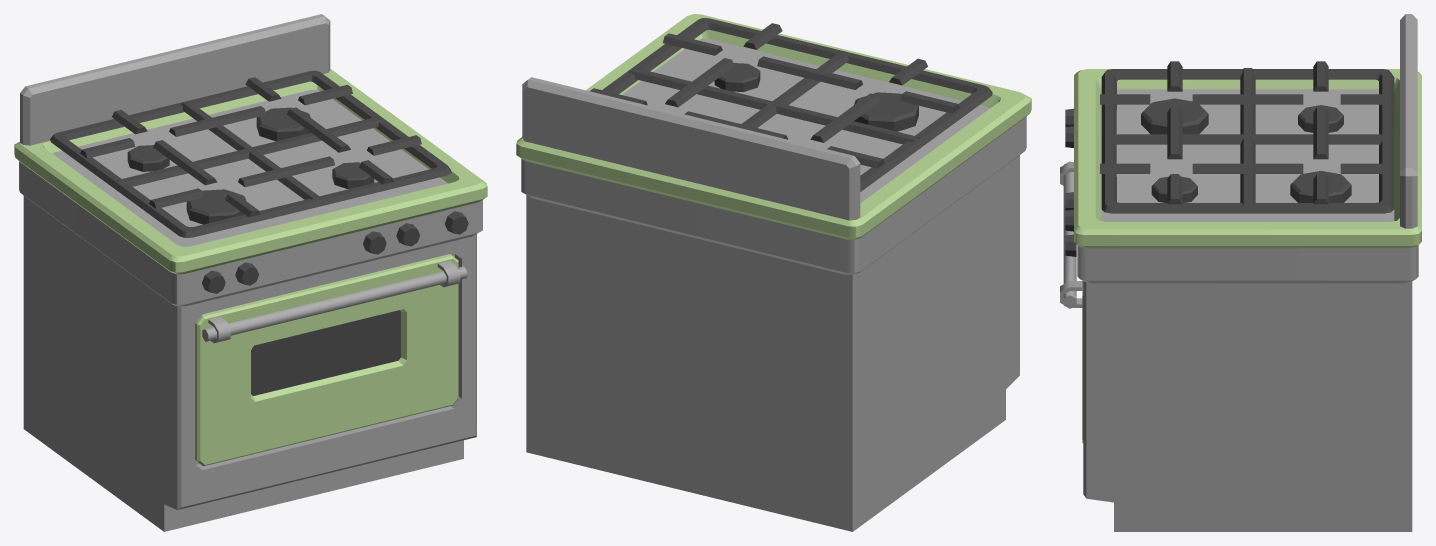
File: stove_01.fbx
3 renders of one model, left to right at view 1: azimuth 30°, elevation 25°; view 2: azimuth 150°, elevation 25°; view 3: azimuth 270°, elevation 25°, orthographic. The views are drawn at different scales.
Visible parts, largest first — view 1: pCube212, pCube213, polySurface37, pCube214, pCube216, polySurface38, pCylinder82, pCube217, pCylinder81, pCube223, pCube226, pCube218 (+9 smaller); view 2: pCube212, pCube213, pCube214, pCube216, pCube217, pCube226, pCube223, pCylinder84, pCube218, pCube225, pCylinder87, pCube228 (+1 smaller); view 3: pCube212, pCube213, pCube216, pCube214, pCube218, pCube226, pCube217, pCylinder84, pCube223, pCylinder86, pCube227, pCube228 (+7 smaller).
Boxes of the visible parts, x1=… form: pCube212: x1=23, y1=196, x2=476, y2=531; pCube213: x1=14, y1=69, x2=487, y2=306; polySurface37: x1=195, y1=254, x2=458, y2=466; pCube214: x1=20, y1=14, x2=330, y2=145; pCube216: x1=50, y1=70, x2=451, y2=237; polySurface38: x1=251, y1=310, x2=400, y2=395; pCylinder82: x1=202, y1=266, x2=467, y2=341; pCube217: x1=117, y1=116, x2=384, y2=186; pCylinder81: x1=202, y1=211, x2=468, y2=293; pCube223: x1=169, y1=106, x2=334, y2=187; pCube226: x1=153, y1=107, x2=350, y2=185; pCube218: x1=181, y1=101, x2=320, y2=199; pCube212: x1=526, y1=155, x2=1019, y2=531; pCube213: x1=516, y1=14, x2=1031, y2=274; pCube214: x1=522, y1=77, x2=860, y2=220; pCube216: x1=602, y1=18, x2=992, y2=191; pCube217: x1=628, y1=67, x2=919, y2=144; pCube226: x1=665, y1=58, x2=880, y2=142; pCube223: x1=684, y1=56, x2=863, y2=139; pCylinder84: x1=854, y1=92, x2=918, y2=131; pCube218: x1=741, y1=50, x2=849, y2=127; pCube225: x1=827, y1=91, x2=959, y2=168; pCylinder87: x1=714, y1=63, x2=760, y2=91; pCube228: x1=743, y1=23, x2=927, y2=85; pCube212: x1=1083, y1=281, x2=1412, y2=531; pCube213: x1=1074, y1=69, x2=1421, y2=283; pCube216: x1=1101, y1=69, x2=1394, y2=213; pCube214: x1=1400, y1=14, x2=1417, y2=228; pCube218: x1=1109, y1=134, x2=1386, y2=144; pCube226: x1=1192, y1=94, x2=1303, y2=173; pCube217: x1=1240, y1=68, x2=1255, y2=205; pCylinder84: x1=1141, y1=98, x2=1208, y2=134; pCube223: x1=1167, y1=107, x2=1328, y2=159; pCylinder86: x1=1290, y1=171, x2=1351, y2=202; pCube227: x1=1340, y1=94, x2=1390, y2=173; pCube228: x1=1100, y1=94, x2=1150, y2=173.
Size of the model in its own units: 6.64 by 6.86 by 6.19.
